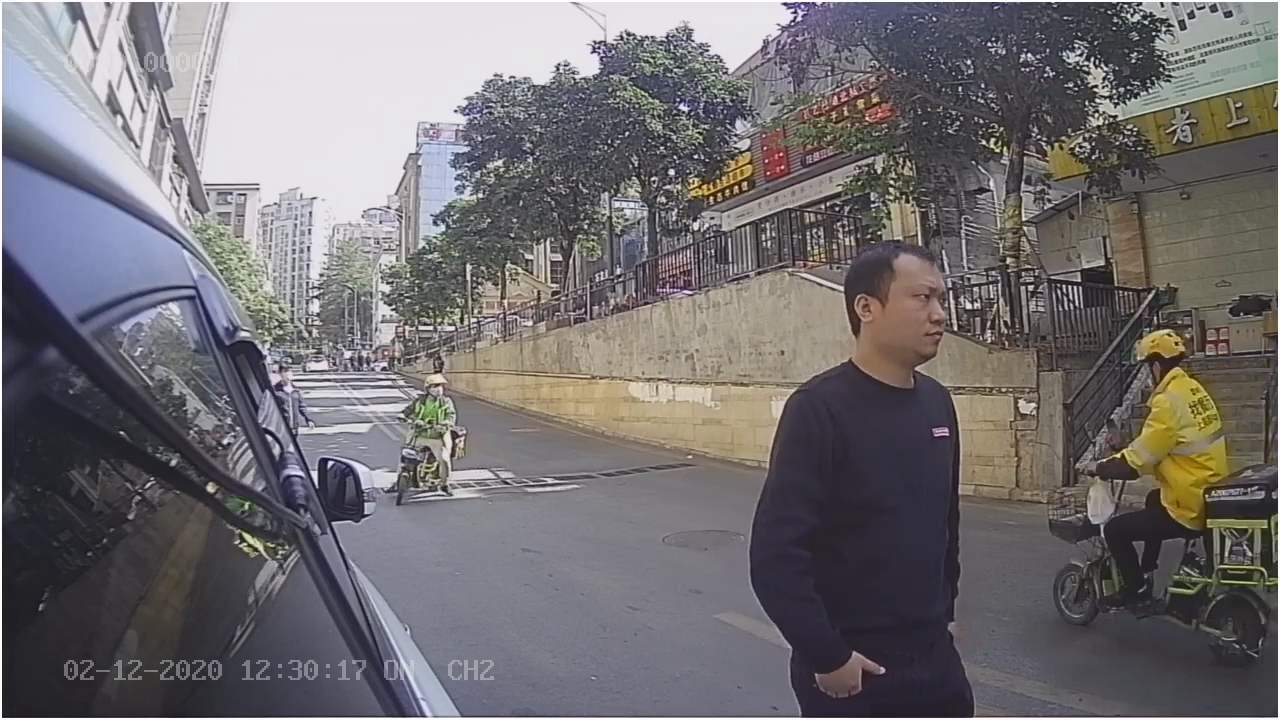person: (747, 227, 983, 696)
